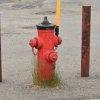a fire hydrant: (29, 20, 63, 86)
